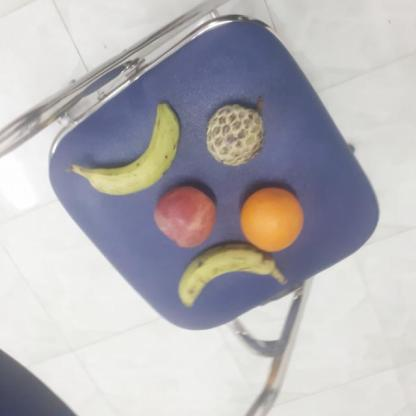annona: (201, 104, 268, 168)
apple: (151, 184, 222, 252)
banana: (87, 102, 180, 197), (174, 243, 275, 313)
orange: (238, 188, 305, 255)
